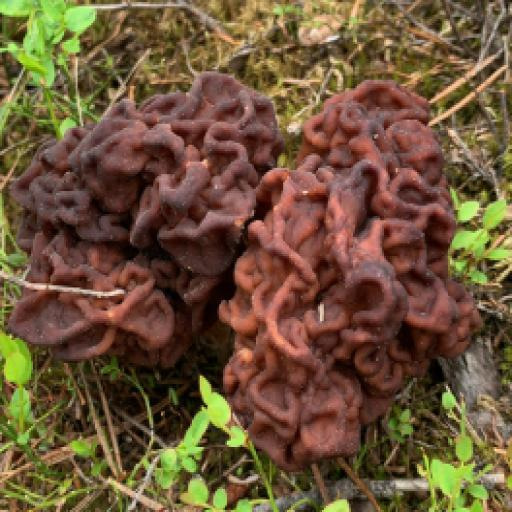mushroom: (21, 68, 485, 451)
